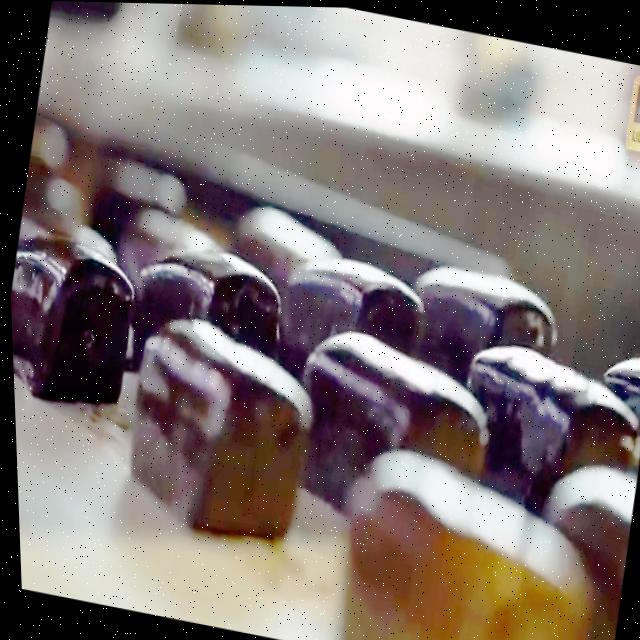Choco: (315, 433, 609, 640), (106, 302, 328, 550), (447, 319, 640, 507), (6, 215, 146, 413), (120, 232, 293, 390), (269, 242, 433, 404), (403, 248, 569, 403), (594, 333, 640, 405)
